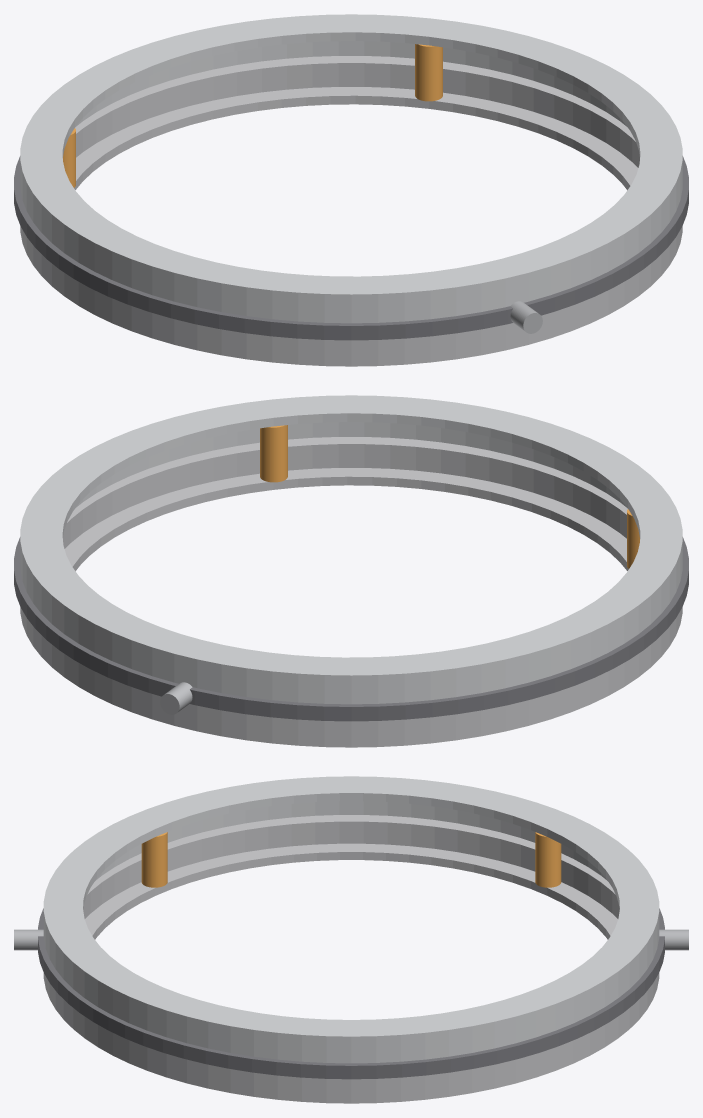
The model's file is stage14_clamp_band_separator_s.glb.
3 renders of one model, top to bottom at view 1: azimuth 30°, elevation 25°; view 2: azimuth 150°, elevation 25°; view 3: azimuth 270°, elevation 25°, orthographic. The views are drawn at different scales.
Visible parts, largest first — view 1: half_b_ring, lower_ring, clamp_band, springs, band_bolts; view 2: half_b_ring, lower_ring, clamp_band, springs, band_bolts; view 3: half_b_ring, lower_ring, clamp_band, springs, band_bolts.
Part boxes in pixels (bbox=[...]): half_b_ring: bbox=[20, 14, 682, 323]; lower_ring: bbox=[20, 56, 682, 366]; clamp_band: bbox=[14, 156, 688, 340]; springs: bbox=[63, 44, 442, 187]; band_bolts: bbox=[510, 301, 542, 333]; half_b_ring: bbox=[20, 395, 682, 704]; lower_ring: bbox=[20, 437, 682, 747]; clamp_band: bbox=[14, 537, 688, 721]; springs: bbox=[260, 425, 639, 568]; band_bolts: bbox=[160, 682, 192, 714]; half_b_ring: bbox=[43, 776, 659, 1063]; lower_ring: bbox=[43, 815, 659, 1103]; clamp_band: bbox=[38, 908, 664, 1079]; springs: bbox=[141, 832, 561, 887]; band_bolts: bbox=[14, 929, 688, 950].
Size of the model in its own units: 1.27 by 0.15 by 1.37.
